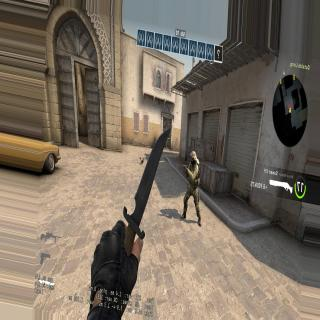CT-Body: (181, 150, 201, 216)
CT-Head: (190, 152, 198, 164)
